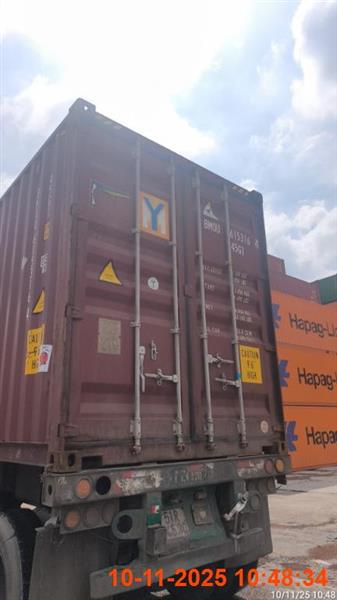rust: (0, 98, 291, 599)
